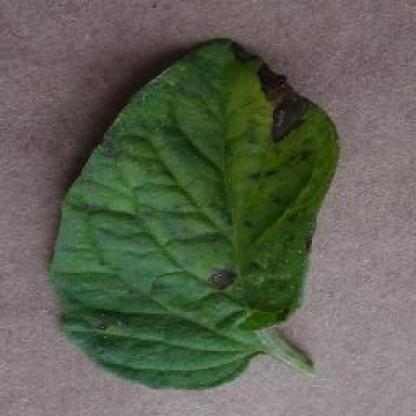Tomato_Blight: (51, 41, 336, 380)
